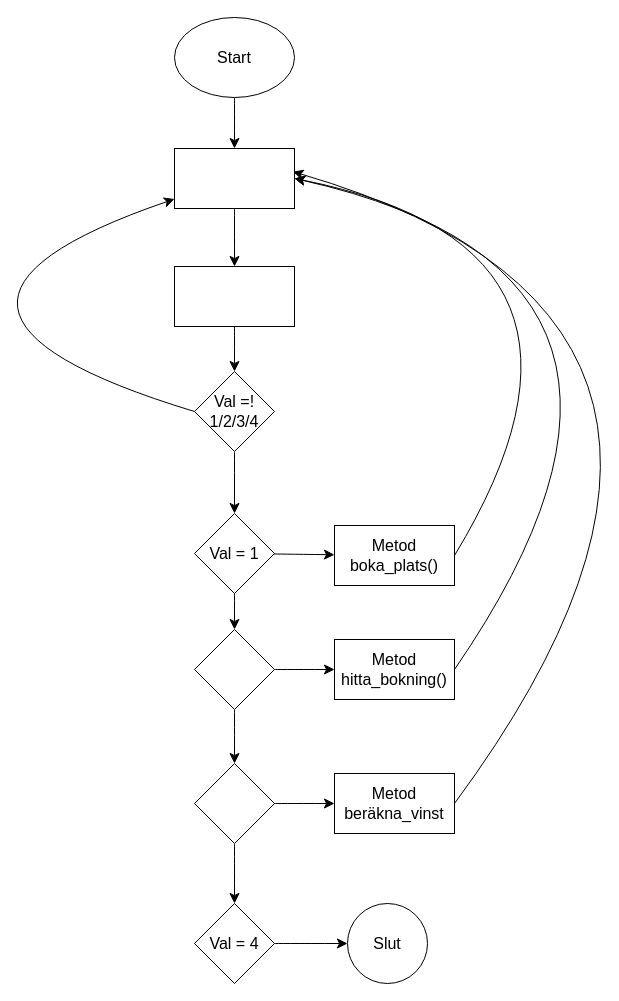
Image size: 619x1001. Some labels were removed from this diagram. The shapes that lost their labels are listed below. From the top down, each one's centre as x and y in pixels, then its label:
At pixel 234 178: "Skriv ut menyn".
At pixel 234 296: "Skapa variabel val = val från användaren".
At pixel 234 669: "Val = 2".
At pixel 234 803: "Val = 3".
